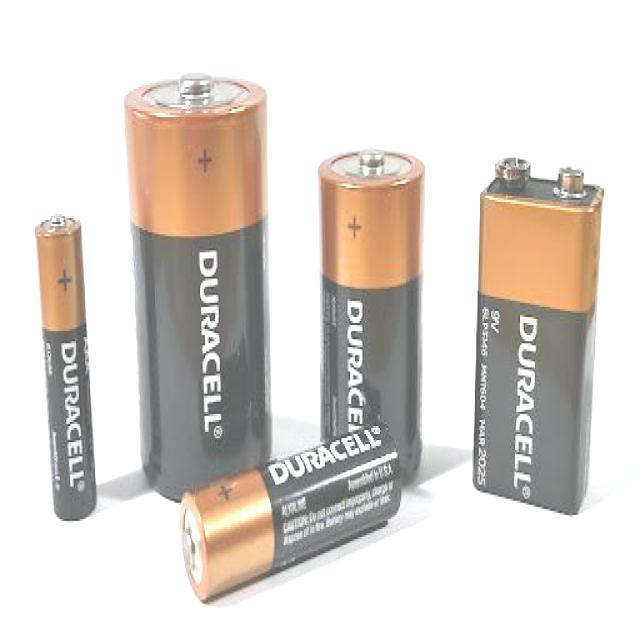AA: (178, 415, 404, 607)
AAA: (32, 209, 101, 529)
